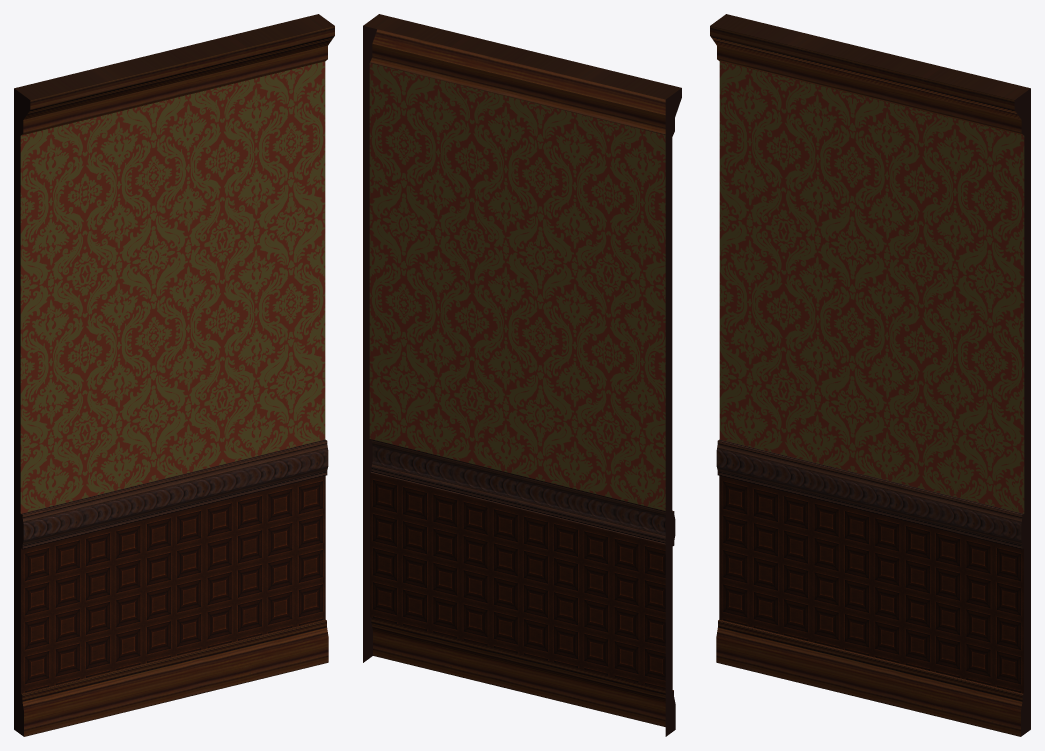
Rendered from Wall1Short.fbx.
The picture shows the model from 3 angles, left to right: view 1: azimuth 30°, elevation 25°; view 2: azimuth 150°, elevation 25°; view 3: azimuth 330°, elevation 25°; orthographic projection.
Visible parts, largest first — view 1: WallSection1Short.001; view 2: WallSection1Short.001; view 3: WallSection1Short.001.
Boxes of the visible parts, x1=… form: WallSection1Short.001: x1=14, y1=14, x2=334, y2=736; WallSection1Short.001: x1=363, y1=14, x2=681, y2=736; WallSection1Short.001: x1=710, y1=14, x2=1030, y2=736.
Size of the model in its own units: 185 by 371 by 16.99.
